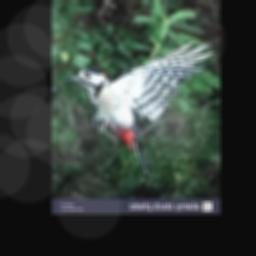Woodpecker: (63, 40, 212, 174)
